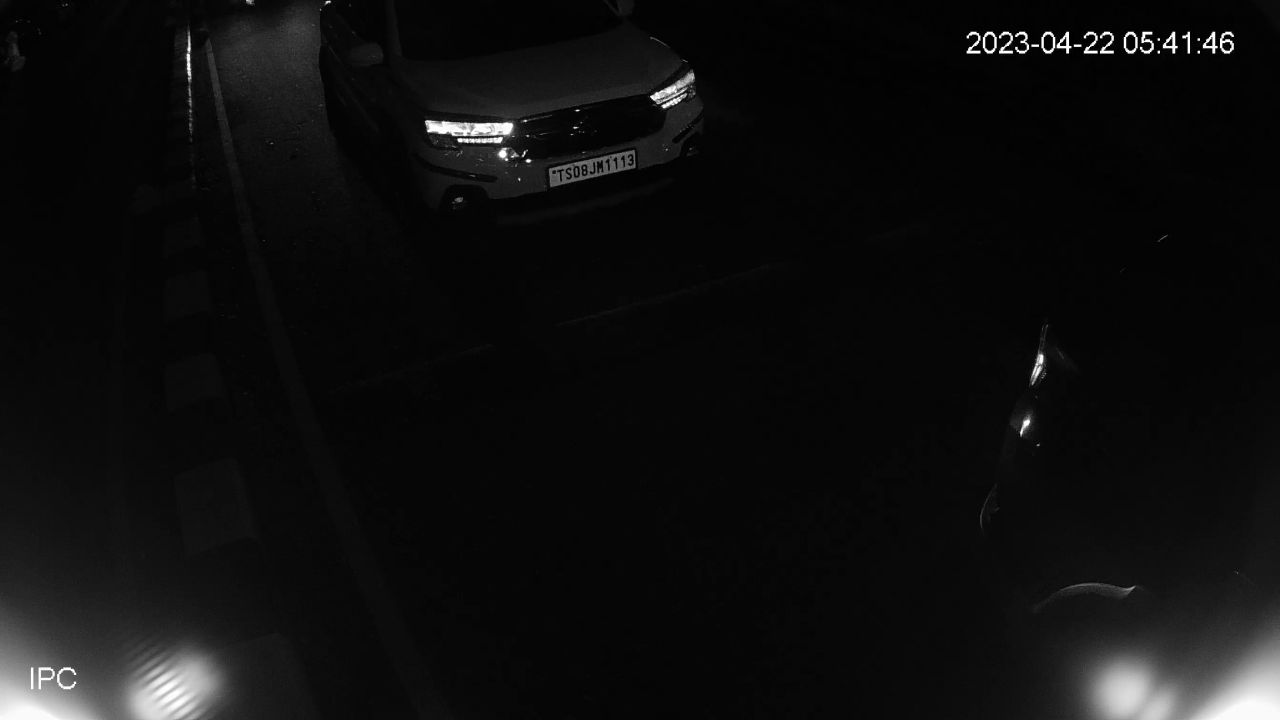license_plate: (544, 143, 642, 192)
